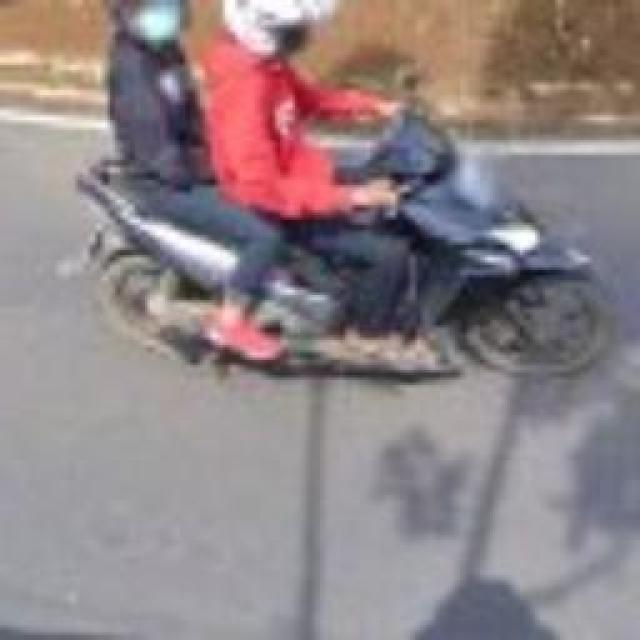motorcycle: (78, 112, 618, 382)
